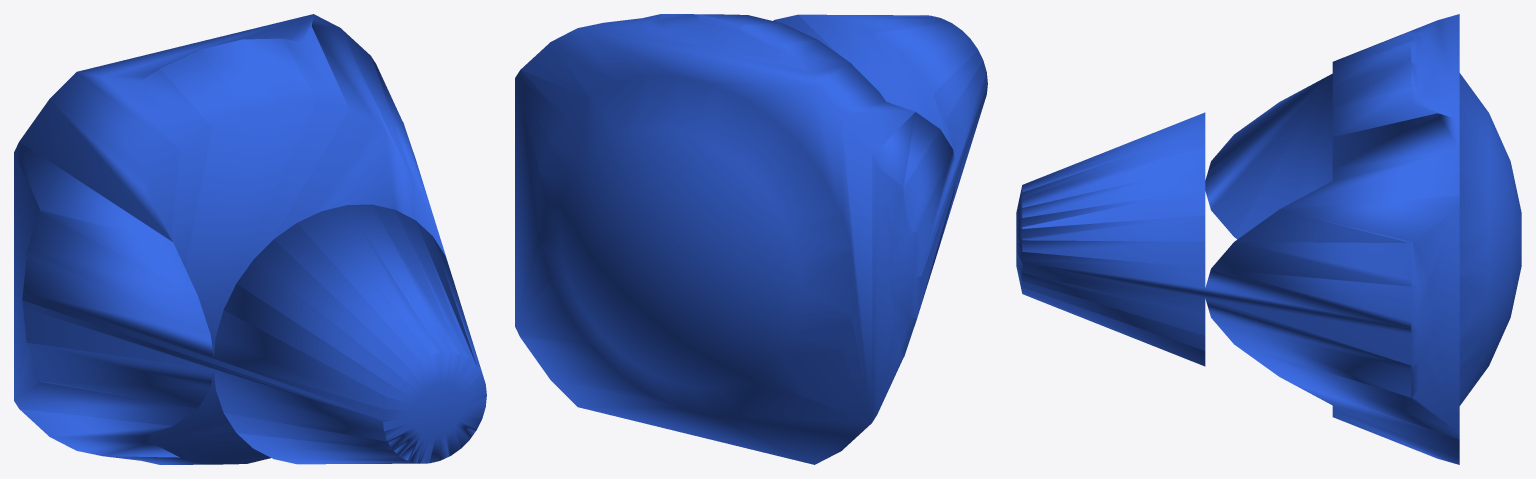
The model's file is myShip.obj.
The picture shows the model from 3 angles, left to right: view 1: azimuth 30°, elevation 25°; view 2: azimuth 150°, elevation 25°; view 3: azimuth 270°, elevation 25°; orthographic projection. The views are drawn at different scales.
Size of the model in its own units: 33 by 32.82 by 39.78.
